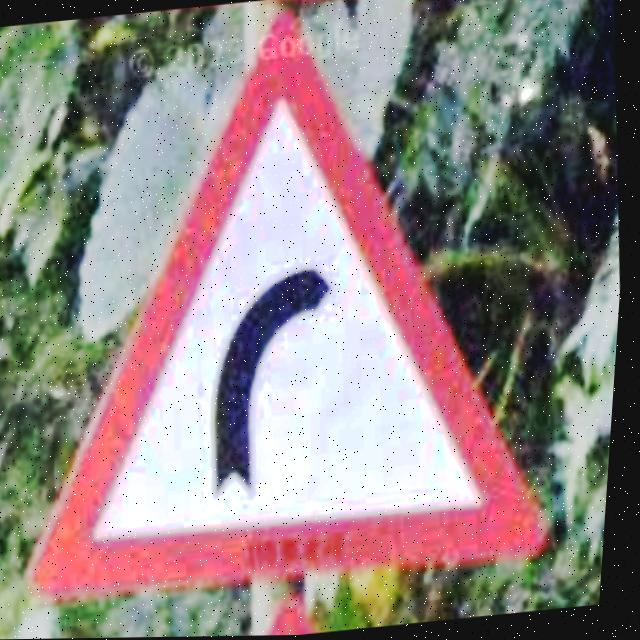rightbend: (34, 12, 557, 606)
